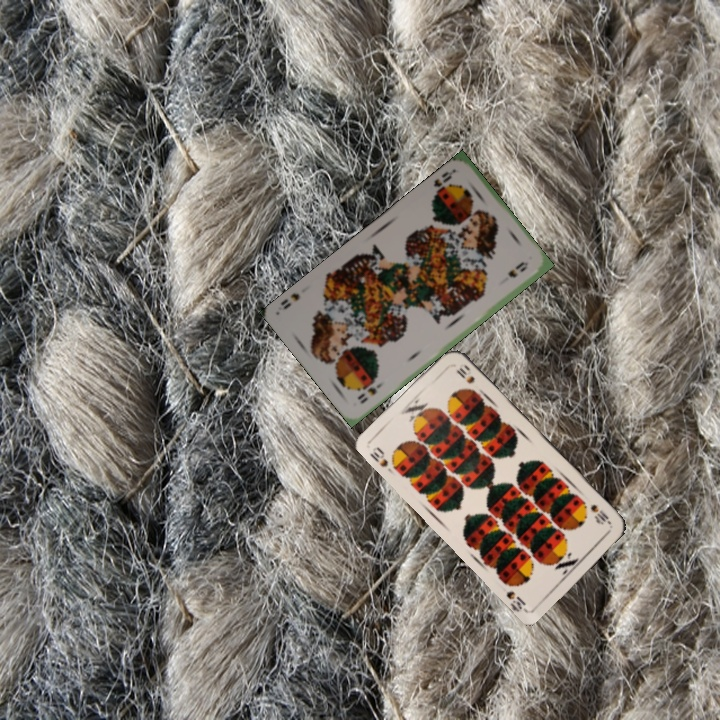S10: (586, 500, 614, 527), (366, 443, 391, 470)
SO: (429, 165, 458, 201), (353, 379, 385, 406)
